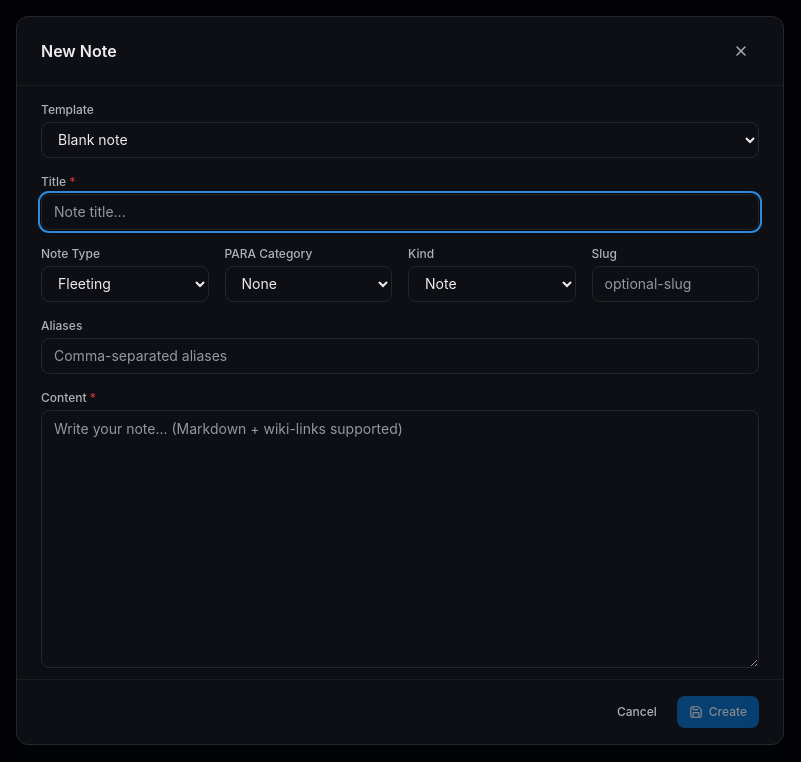
Test case: NoteEditor › renders mutation errors from failed saves
Type "Failed note" into the field with placeholder "Note title..." at (400,212), box [41,194,759,230]
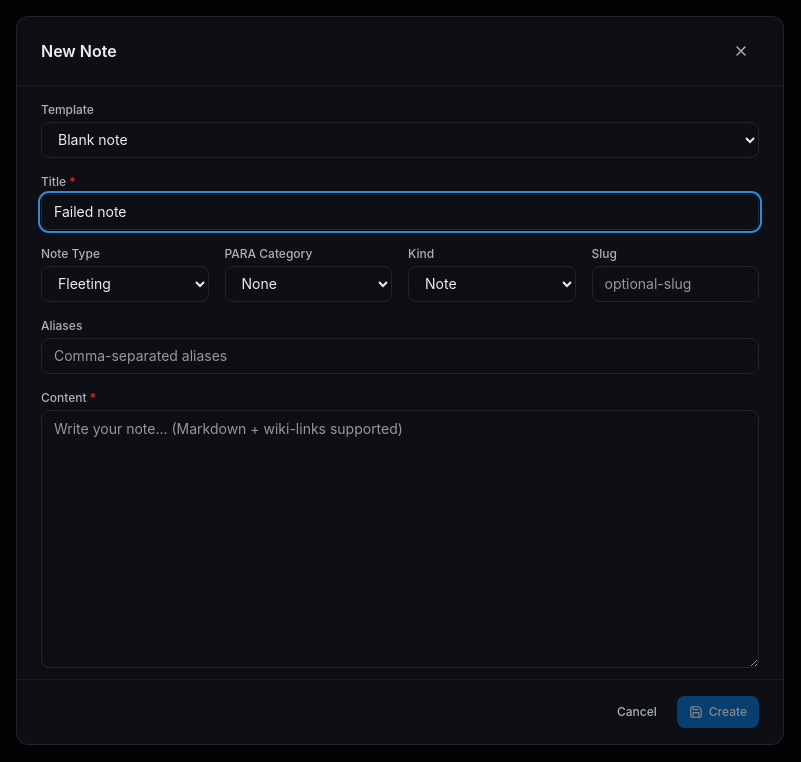
Type "Still tries to save" into the text box with placeholder "Write your note... (Markdown + wiki-links supported)" at (400,538), box [41,410,759,668]
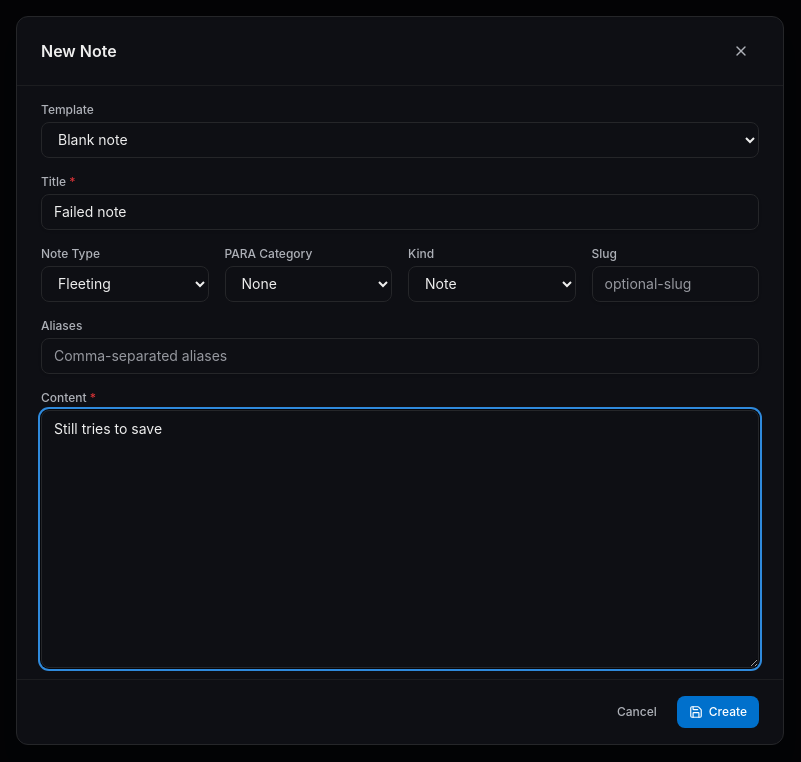
Click the button "Create" at (718,712), box [677,696,759,728]
(page scrolled)
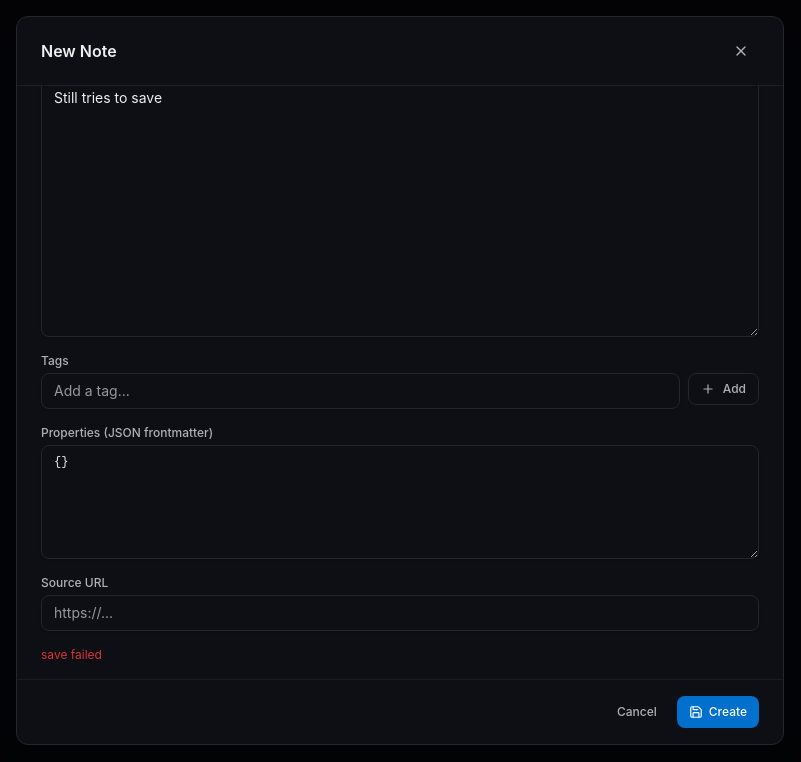
Expected: the text "save failed" is shown, [41,646,102,662]
